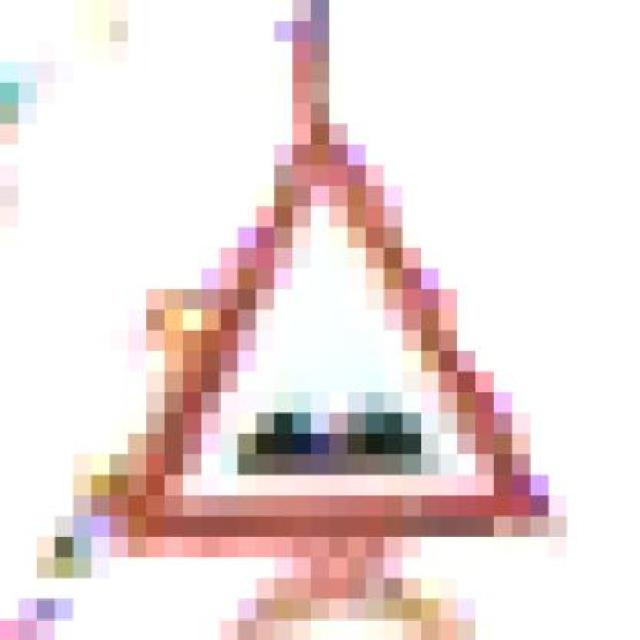Uneven Road: (128, 103, 549, 557)
